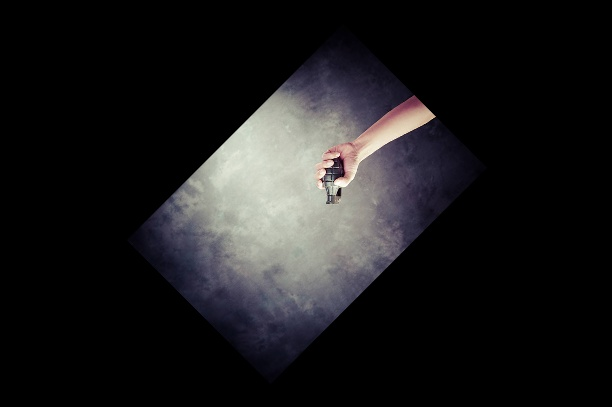e1: (318, 148, 347, 209)
